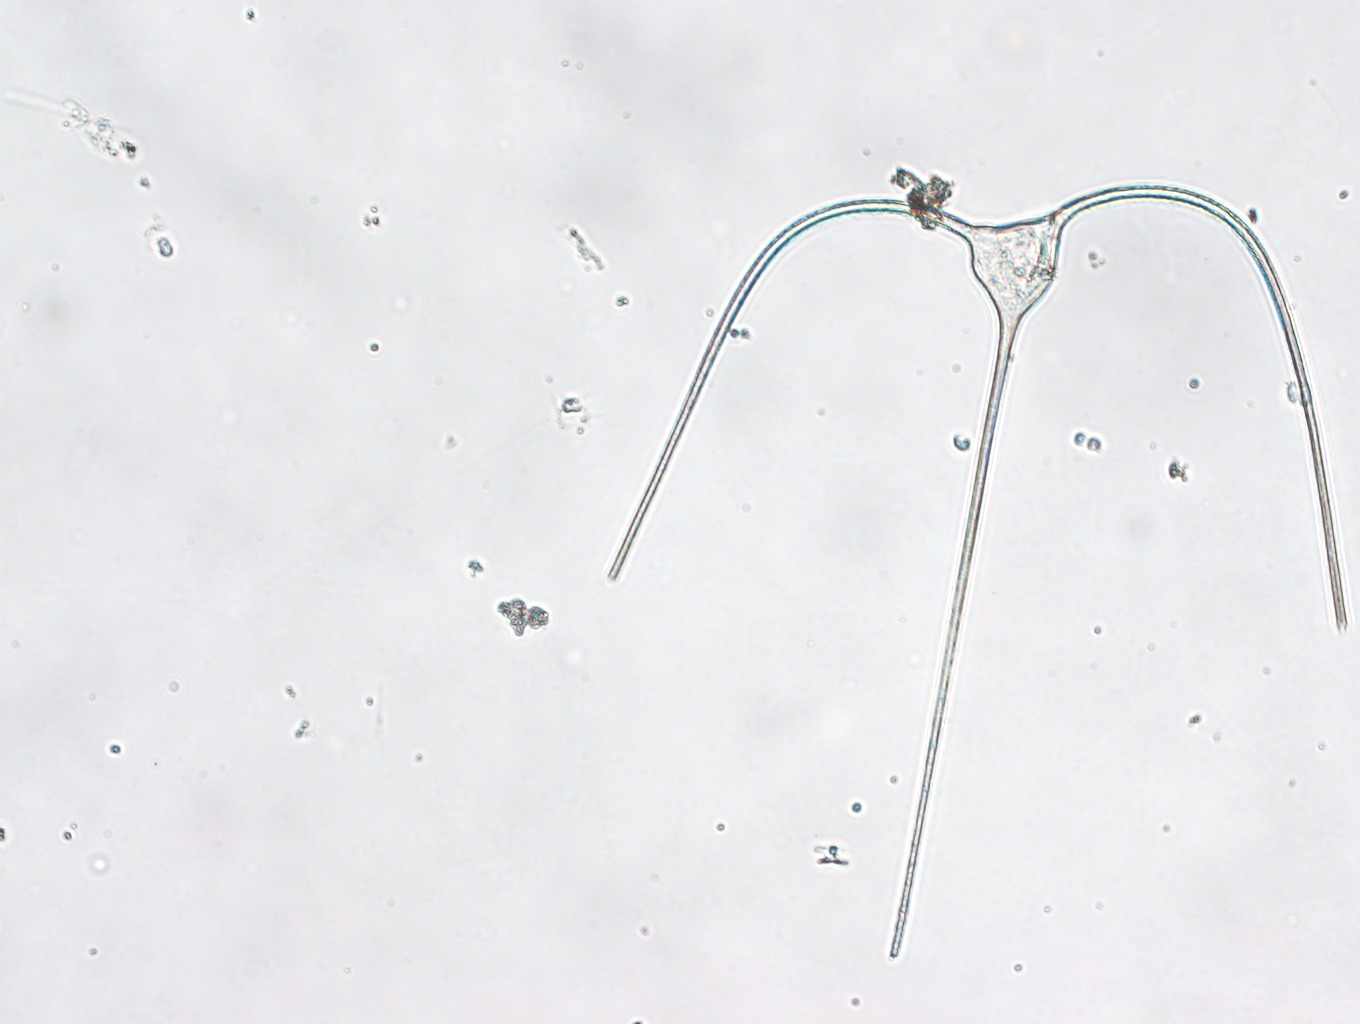ceratium trichoceros: (606, 181, 1352, 959)
